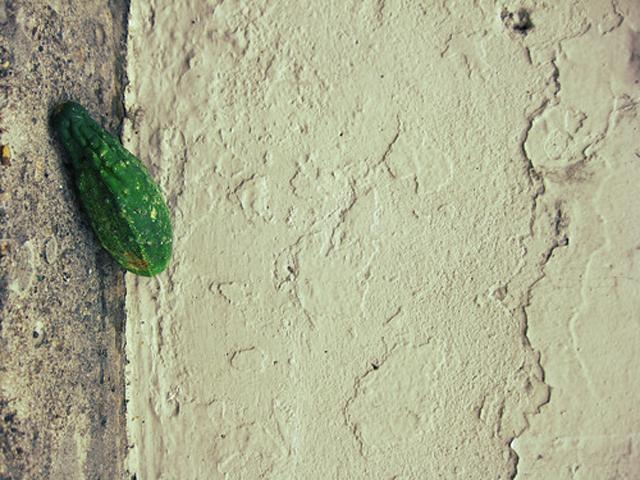cucumber: (52, 104, 173, 276)
